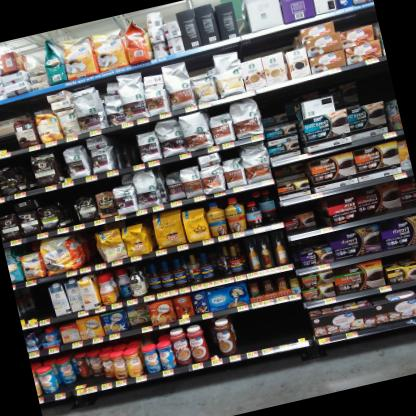empty_space: (254, 314, 277, 351), (123, 129, 144, 168), (272, 311, 293, 347), (238, 318, 259, 354), (33, 286, 54, 321), (289, 308, 310, 343), (0, 129, 18, 156), (25, 308, 38, 325)
